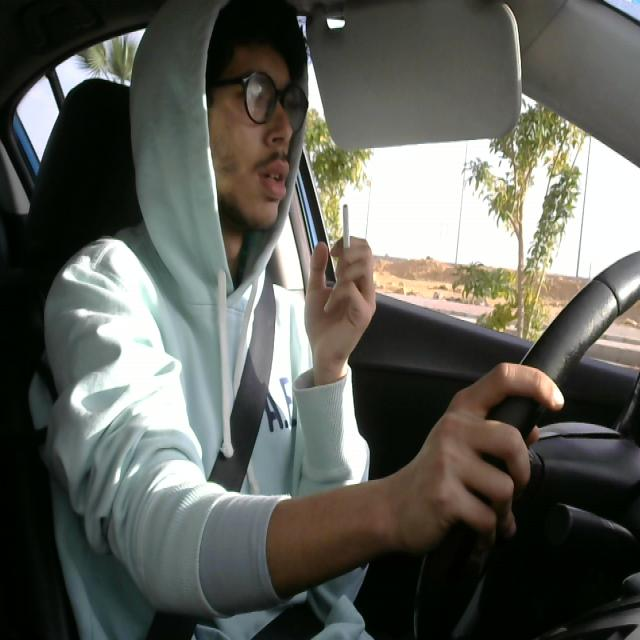smoking: (332, 196, 358, 271)
